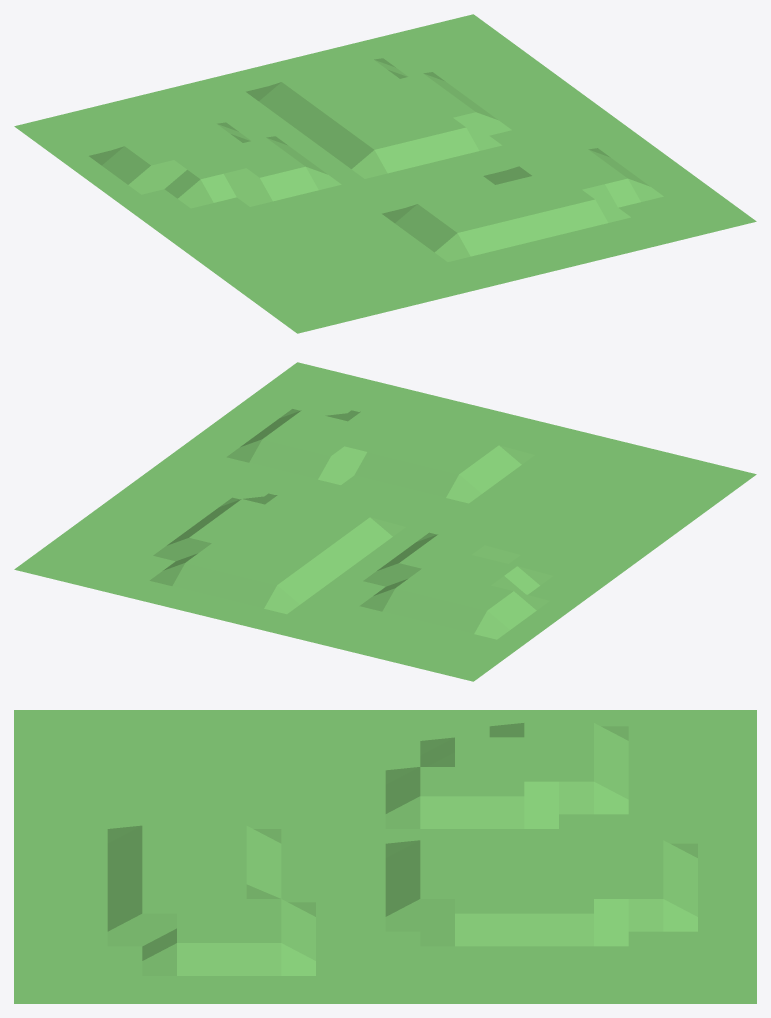
The model's file is NewMap3.glb.
The picture shows the model from 3 angles, top to bottom: view 1: azimuth 30°, elevation 25°; view 2: azimuth 150°, elevation 25°; view 3: azimuth 270°, elevation 25°; orthographic projection. The views are drawn at different scales.
Parts seen in each view (by area): view 1: Map3; view 2: Map3; view 3: Map3.
Part boxes in pixels (x1,y1,x2,y2): Map3: (14,14,756,333); Map3: (14,362,756,681); Map3: (14,710,756,1003).
Size of the model in its own units: 20.03 by 0.5783 by 21.39.
Materials: 1 (1 with a texture image).
